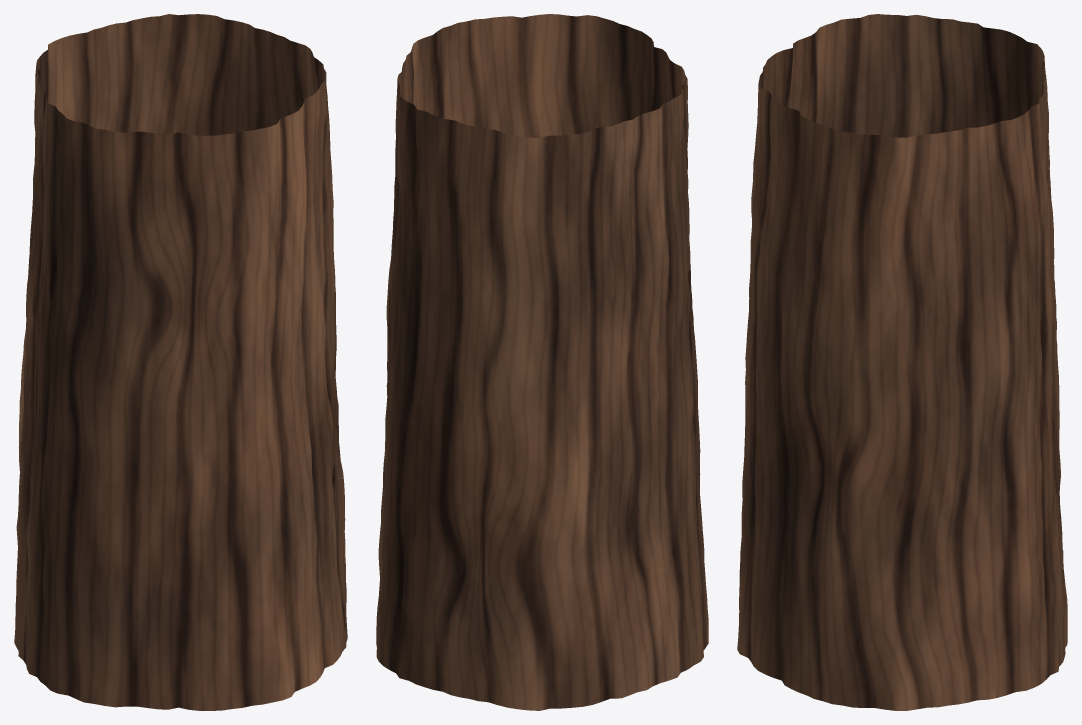
Rendered from tree_bark_hd.glb.
The picture shows the model from 3 angles, left to right: view 1: azimuth 30°, elevation 25°; view 2: azimuth 150°, elevation 25°; view 3: azimuth 270°, elevation 25°; orthographic projection.
Visible parts, largest first — view 1: Tree Bark; view 2: Tree Bark; view 3: Tree Bark.
Part boxes in pixels (x1,y1,x2,y2): Tree Bark: [14, 14, 347, 710]; Tree Bark: [376, 14, 708, 710]; Tree Bark: [737, 14, 1067, 710].
Bounding box in the file's own units: 0.8603 × 1.6 × 0.8496.
1 material, 1 textured.
